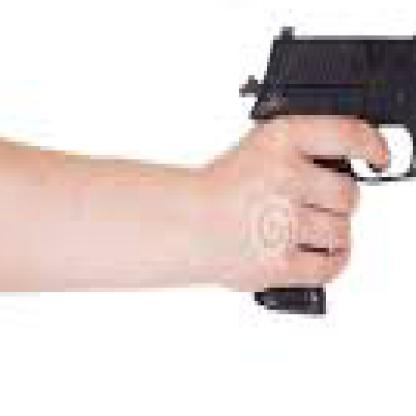gun: (230, 13, 413, 336)
